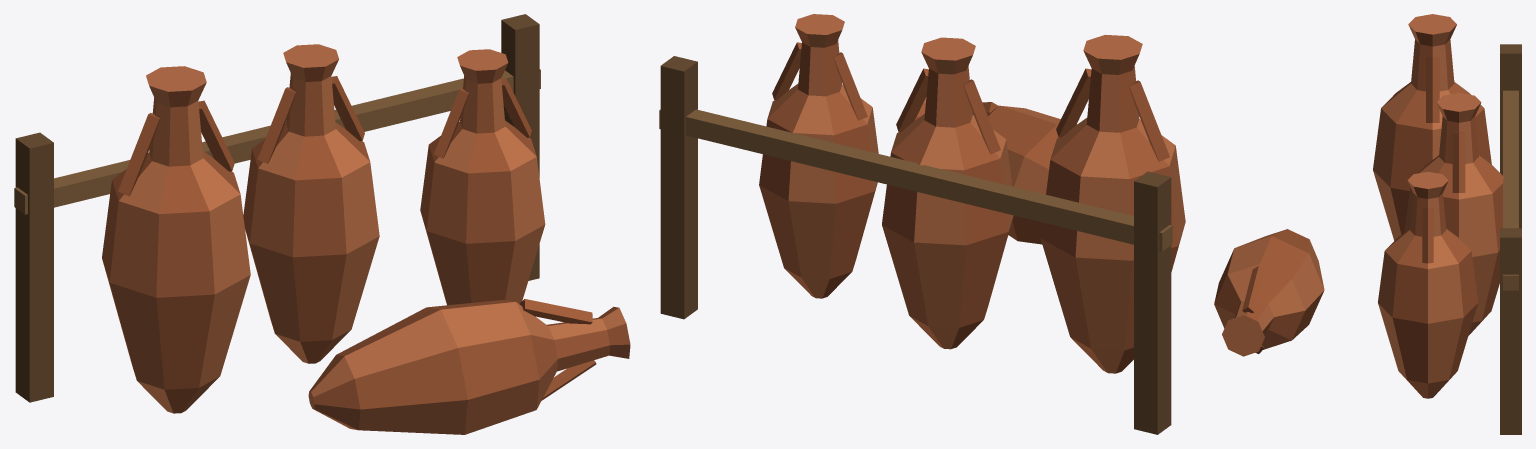
The model's file is amphorae.glb.
3 views of the same model, side by side, from view 1: azimuth 30°, elevation 25°; view 2: azimuth 150°, elevation 25°; view 3: azimuth 270°, elevation 25° (orthographic). The views are drawn at different scales.
Parts seen in each view (by area): view 1: amphorae2; view 2: amphorae2; view 3: amphorae2.
Part boxes in pixels (x1,y1,x2,y2): amphorae2: (14,14,630,434); amphorae2: (659,14,1185,434); amphorae2: (1214,14,1521,434).
Bounding box in the file's own units: 3.06 × 1.87 × 2.04.
